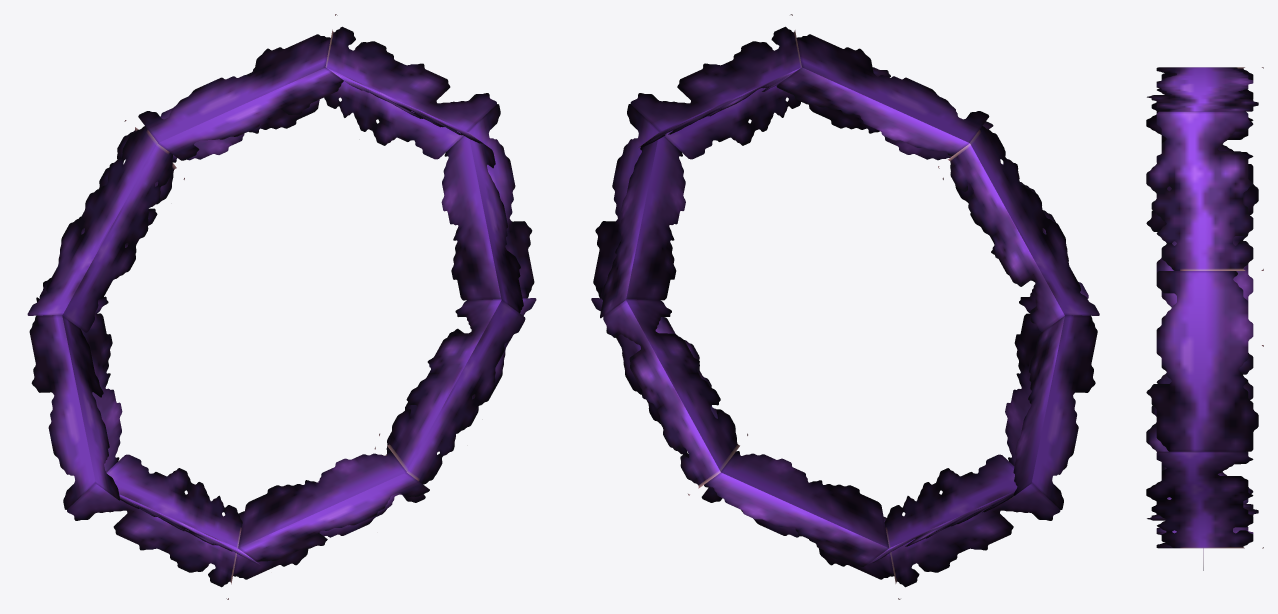
The picture shows the model from 3 angles, left to right: view 1: azimuth 30°, elevation 25°; view 2: azimuth 150°, elevation 25°; view 3: azimuth 270°, elevation 25°; orthographic projection. The views are drawn at different scales.
Visible parts, largest first — view 1: T1L3M006_26; view 2: T1L3M006_26; view 3: T1L3M006_26.
Boxes of the visible parts, x1,y1,x2,y2 form: T1L3M006_26: [27, 14, 536, 599]; T1L3M006_26: [591, 14, 1099, 599]; T1L3M006_26: [1146, 67, 1263, 570].
Bounding box in the file's own units: 2.83 × 2.83 × 0.5957.
